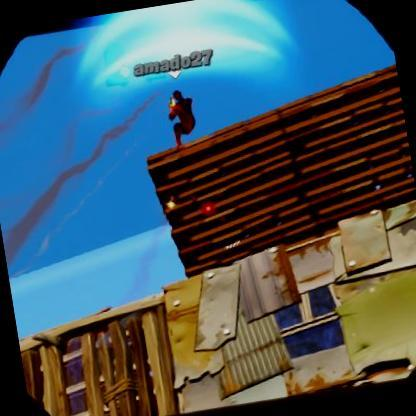person: (164, 89, 192, 141)
